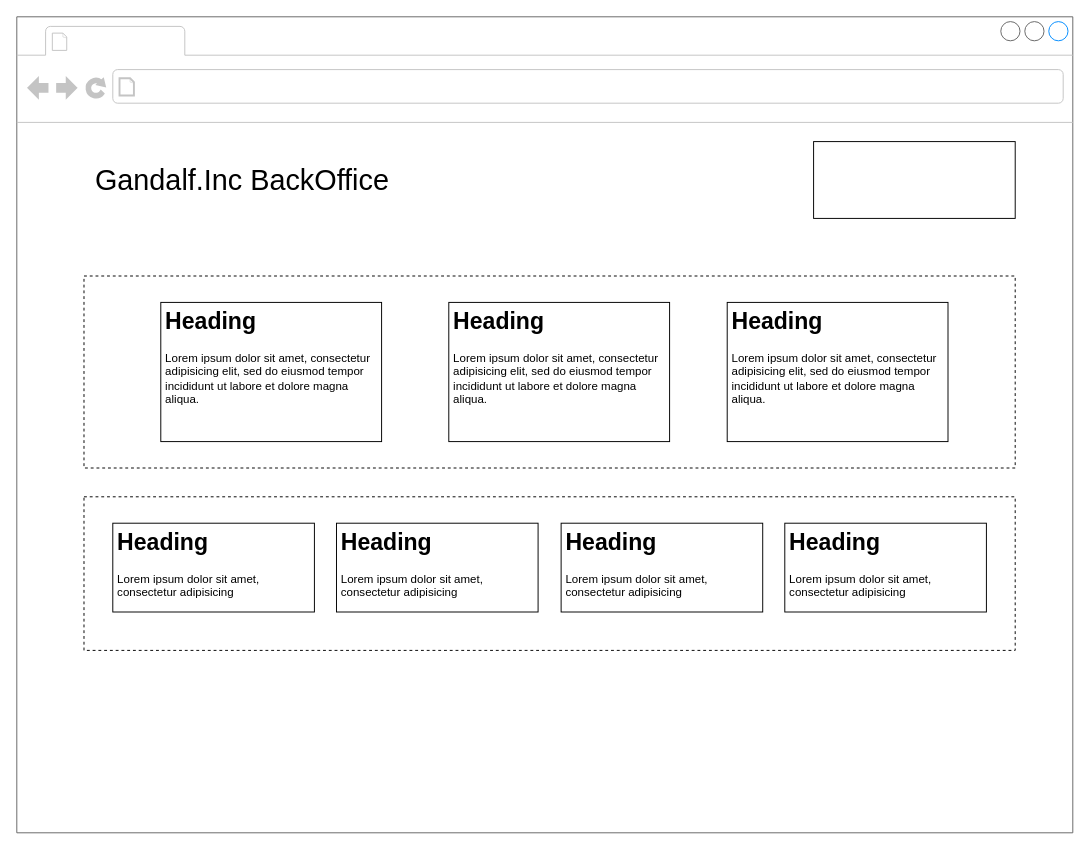
Some shapes in this 1090 by 850 pixel diagram are drawn without their labels. The centre of each missing label's shape, as x and y in pixels:
"https://www.draw.io" belongs at (261,86).
"Logo da Empresa" belongs at (914,179).
"Page 1" belongs at (126,40).
